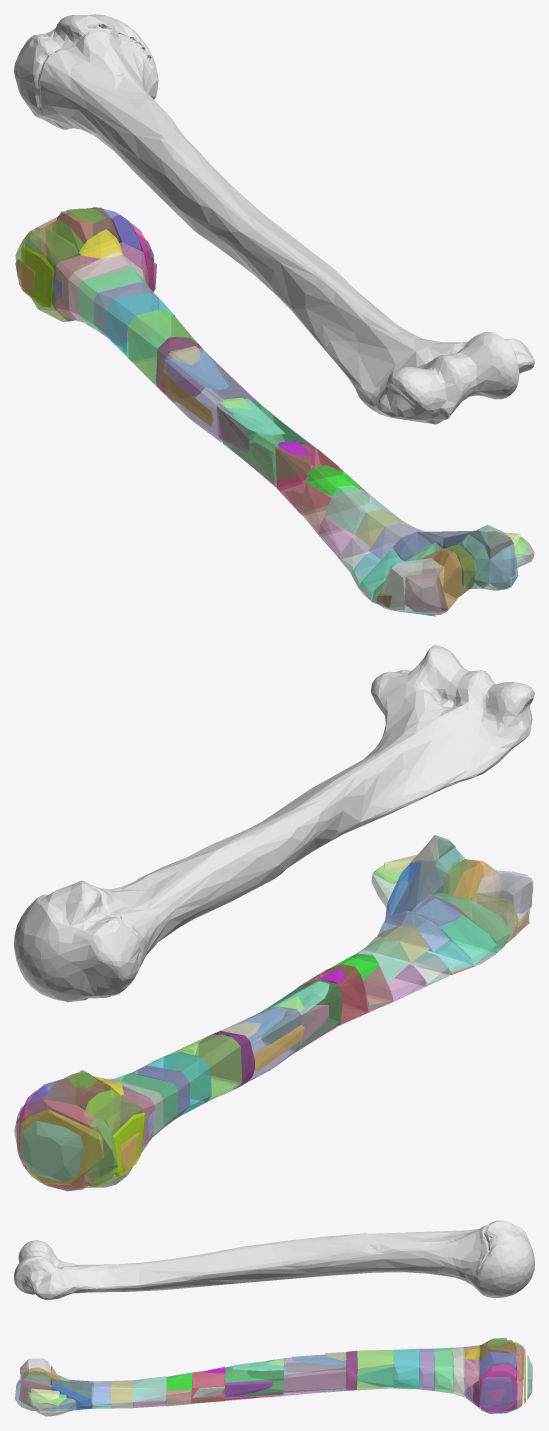
The model's file is humerous.glb.
3 views of the same model, one above another, from view 1: azimuth 30°, elevation 25°; view 2: azimuth 150°, elevation 25°; view 3: azimuth 270°, elevation 25° (orthographic). The views are drawn at different scales.
Parts seen in each view (by area): view 1: Humerus_Humerus.001, Humerus_Humerus.001_hull_78, Humerus_Humerus.001_hull_27, Humerus_Humerus.001_hull_80, Humerus_Humerus.001_hull_64, Humerus_Humerus.001_hull_73, Humerus_Humerus.001_hull_49, Humerus_Humerus.001_hull_1, Humerus_Humerus.001_hull_65, Humerus_Humerus.001_hull_13, Humerus_Humerus.001_hull_72, Humerus_Humerus.001_hull_2 (+30 smaller); view 2: Humerus_Humerus.001, Humerus_Humerus.001_hull_42, Humerus_Humerus.001_hull_64, Humerus_Humerus.001_hull_34, Humerus_Humerus.001_hull_80, Humerus_Humerus.001_hull_57, Humerus_Humerus.001_hull_78, Humerus_Humerus.001_hull_9, Humerus_Humerus.001_hull_27, Humerus_Humerus.001_hull_81, Humerus_Humerus.001_hull_72, Humerus_Humerus.001_hull_10 (+33 smaller); view 3: Humerus_Humerus.001, Humerus_Humerus.001_hull_80, Humerus_Humerus.001_hull_78, Humerus_Humerus.001_hull_77, Humerus_Humerus.001_hull_64, Humerus_Humerus.001_hull_76, Humerus_Humerus.001_hull_49, Humerus_Humerus.001_hull_27, Humerus_Humerus.001_hull_66, Humerus_Humerus.001_hull_81, Humerus_Humerus.001_hull_2, Humerus_Humerus.001_hull_33 (+29 smaller).
Boxes of the visible parts, bbox=[...] form: Humerus_Humerus.001: bbox=[14, 14, 534, 424]; Humerus_Humerus.001_hull_78: bbox=[217, 402, 311, 484]; Humerus_Humerus.001_hull_27: bbox=[106, 292, 173, 361]; Humerus_Humerus.001_hull_80: bbox=[164, 351, 256, 442]; Humerus_Humerus.001_hull_64: bbox=[127, 310, 198, 385]; Humerus_Humerus.001_hull_73: bbox=[55, 242, 148, 321]; Humerus_Humerus.001_hull_49: bbox=[275, 444, 343, 514]; Humerus_Humerus.001_hull_1: bbox=[68, 251, 145, 327]; Humerus_Humerus.001_hull_65: bbox=[24, 228, 78, 321]; Humerus_Humerus.001_hull_13: bbox=[93, 282, 158, 347]; Humerus_Humerus.001_hull_72: bbox=[381, 558, 443, 613]; Humerus_Humerus.001_hull_2: bbox=[78, 267, 150, 335]; Humerus_Humerus.001: bbox=[14, 645, 534, 1002]; Humerus_Humerus.001_hull_42: bbox=[20, 1109, 103, 1185]; Humerus_Humerus.001_hull_64: bbox=[167, 1034, 242, 1101]; Humerus_Humerus.001_hull_34: bbox=[21, 1120, 83, 1182]; Humerus_Humerus.001_hull_80: bbox=[215, 1006, 301, 1083]; Humerus_Humerus.001_hull_57: bbox=[412, 899, 497, 965]; Humerus_Humerus.001_hull_78: bbox=[259, 979, 342, 1051]; Humerus_Humerus.001_hull_9: bbox=[433, 892, 510, 952]; Humerus_Humerus.001_hull_27: bbox=[138, 1053, 211, 1115]; Humerus_Humerus.001_hull_81: bbox=[44, 1073, 110, 1191]; Humerus_Humerus.001_hull_72: bbox=[477, 870, 533, 938]; Humerus_Humerus.001_hull_10: bbox=[195, 1030, 254, 1089]; Humerus_Humerus.001: bbox=[14, 1220, 534, 1300]; Humerus_Humerus.001_hull_80: bbox=[283, 1356, 346, 1393]; Humerus_Humerus.001_hull_78: bbox=[224, 1362, 283, 1397]; Humerus_Humerus.001_hull_77: bbox=[479, 1364, 517, 1411]; Humerus_Humerus.001_hull_64: bbox=[357, 1349, 394, 1387]; Humerus_Humerus.001_hull_76: bbox=[283, 1370, 346, 1392]; Humerus_Humerus.001_hull_49: bbox=[191, 1368, 225, 1403]; Humerus_Humerus.001_hull_27: bbox=[394, 1348, 419, 1388]; Humerus_Humerus.001_hull_66: bbox=[479, 1377, 515, 1407]; Humerus_Humerus.001_hull_81: bbox=[479, 1340, 517, 1411]; Humerus_Humerus.001_hull_2: bbox=[434, 1347, 453, 1393]; Humerus_Humerus.001_hull_33: bbox=[133, 1376, 166, 1402].
Size of the model in its own units: 0.8287 by 1.65 by 4.05.
